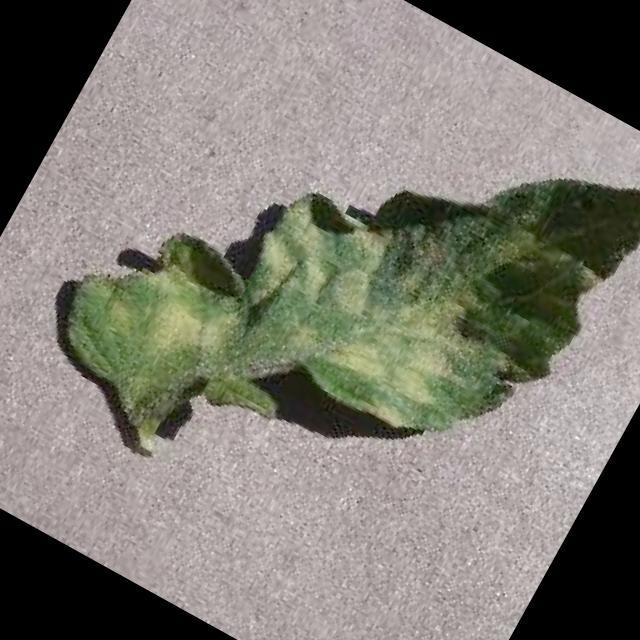Tomato mold leaf: (25, 0, 640, 625)
